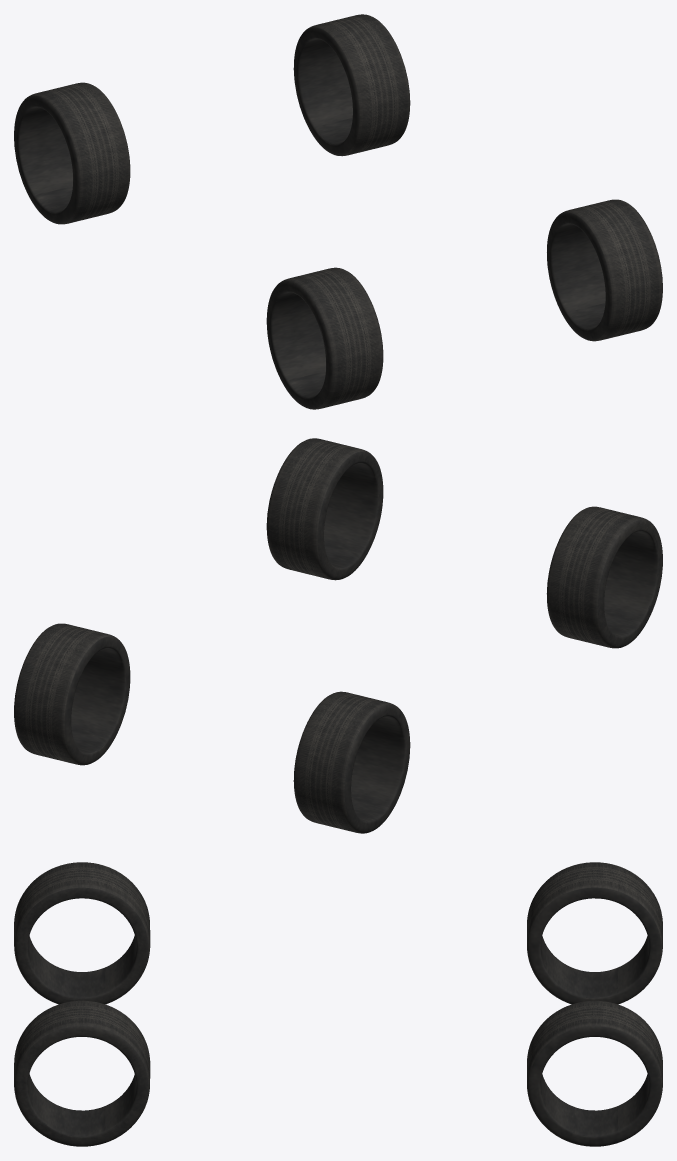
Rendered from Opony.glb.
3 renders of one model, top to bottom at view 1: azimuth 30°, elevation 25°; view 2: azimuth 150°, elevation 25°; view 3: azimuth 270°, elevation 25°, orthographic.
Visible parts, largest first — view 1: Opony_przod_material, Opony_tyl_material; view 2: Opony_przod_material, Opony_tyl_material; view 3: Opony_przod_material, Opony_tyl_material.
Boxes of the visible parts, left/top/right/bottom form: Opony_przod_material: left=266, top=199, right=662, bottom=409; Opony_tyl_material: left=14, top=14, right=410, bottom=224; Opony_przod_material: left=266, top=438, right=662, bottom=648; Opony_tyl_material: left=14, top=623, right=410, bottom=833; Opony_przod_material: left=14, top=862, right=150, bottom=1146; Opony_tyl_material: left=527, top=862, right=662, bottom=1146.
Size of the model in its own units: 4.9 by 1.71 by 8.15.
1 material, 1 textured.
